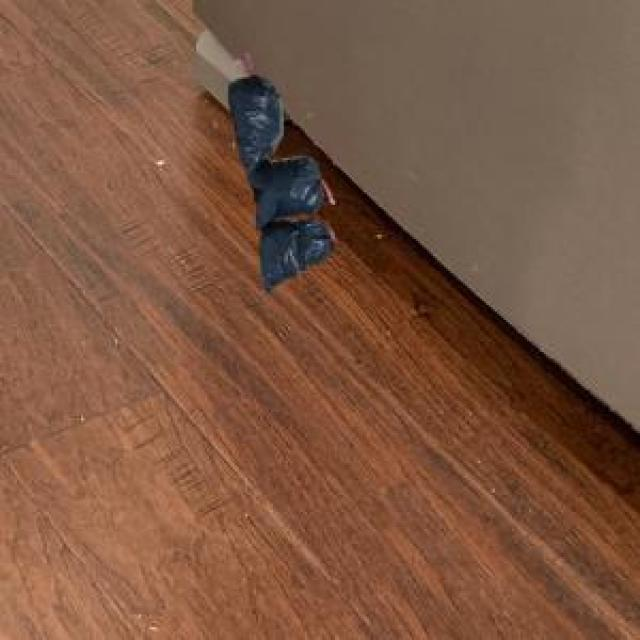waste: (229, 75, 334, 288)
